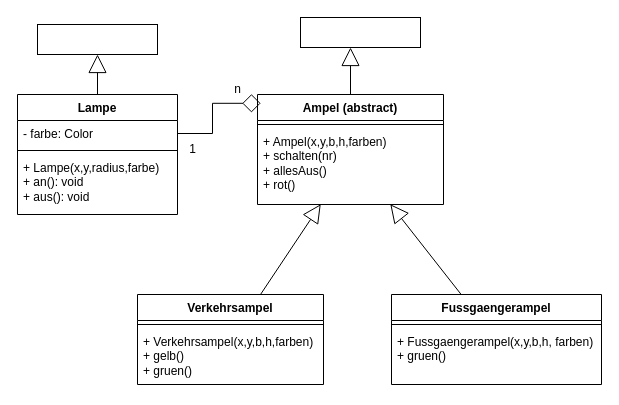
Some shapes in this 619 by 405 pixel diagram are drawn without their labels. The shapes that lost their labels are listed below. From the top down, each one's centre as x and y in pixels, then its label:
point 97,39: Circle
point 360,32: Rectangle
